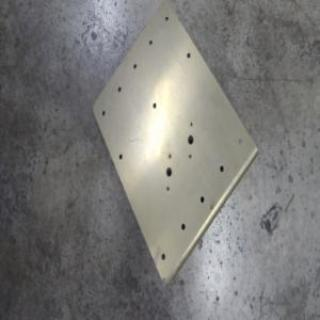MetalSheettrack_idkeyframe: (89, 2, 259, 290)
